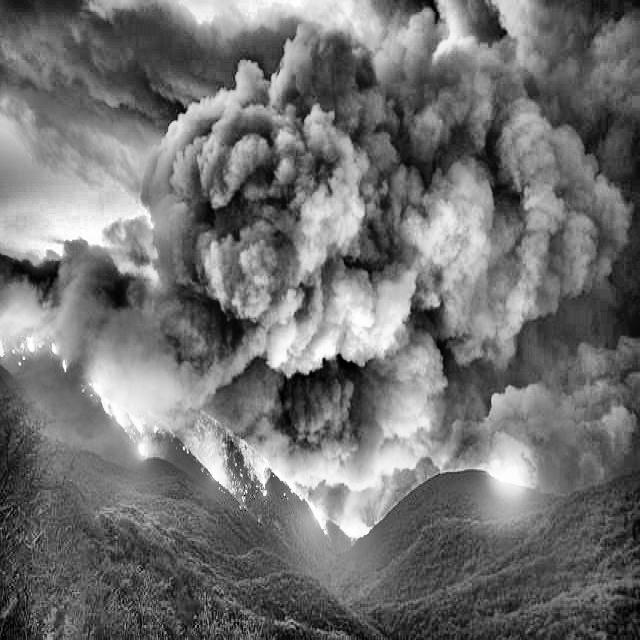fire: (6, 178, 619, 640)
